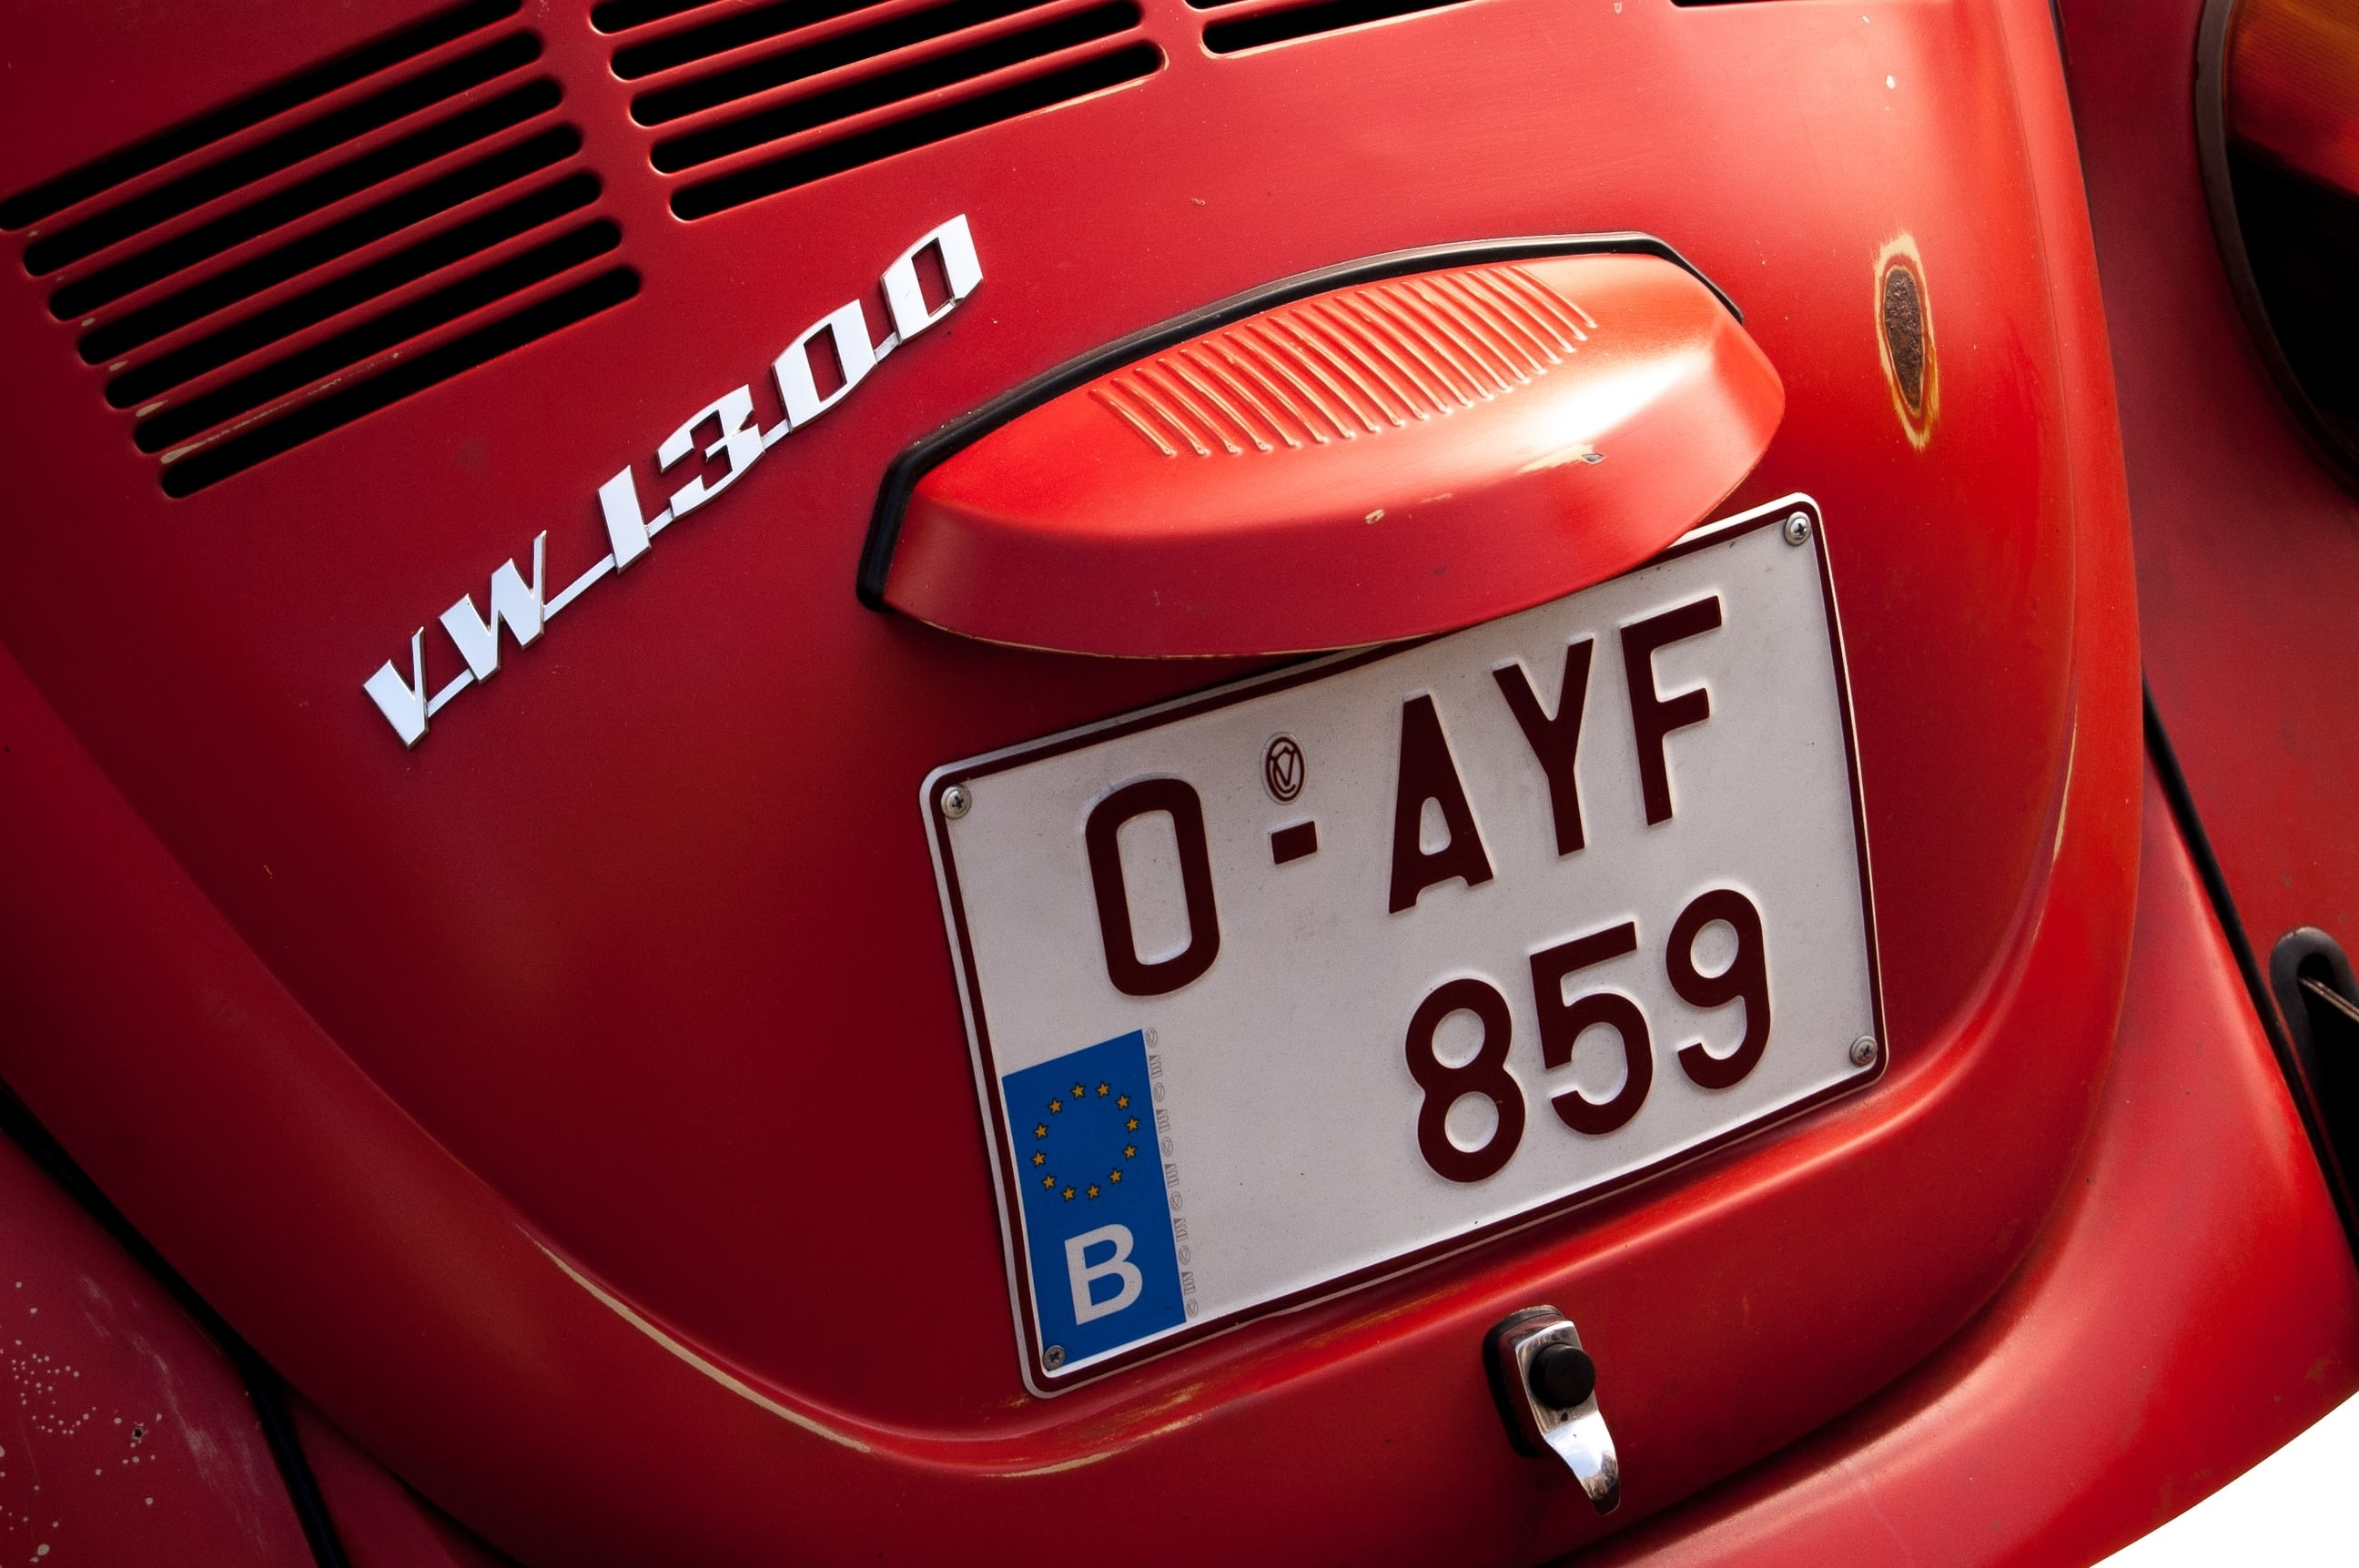plaka: (905, 488, 1887, 1401)
